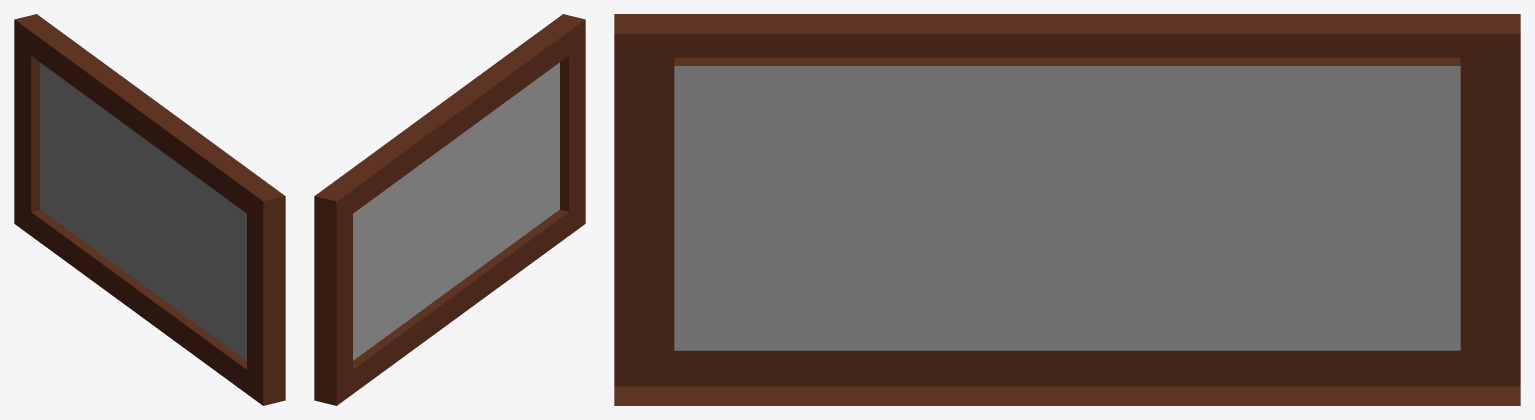
File: SM_Mirroir.fbx
3 renders of one model, left to right at view 1: azimuth 30°, elevation 25°; view 2: azimuth 150°, elevation 25°; view 3: azimuth 270°, elevation 25°, orthographic. The views are drawn at different scales.
Parts seen in each view (by area): view 1: polySurface50, polySurface49; view 2: polySurface50, polySurface49; view 3: polySurface49, polySurface50.
Boxes of the visible parts, x1,y1,x2,y2 form: polySurface50: (14,14,285,405); polySurface49: (40,62,246,360); polySurface50: (314,14,585,405); polySurface49: (353,62,559,360); polySurface49: (674,66,1460,350); polySurface50: (614,14,1520,405).
Bounding box in the file's own units: 2.32 × 20.33 × 44.85.
